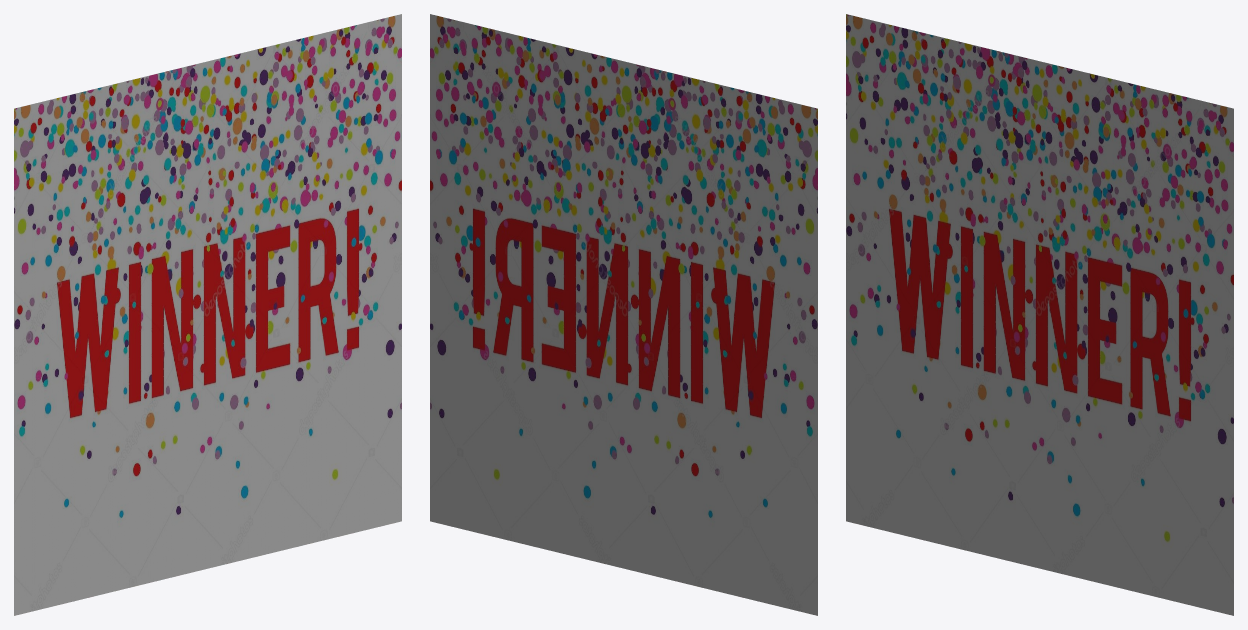
The model's file is winner.glb.
3 views of the same model, side by side, from view 1: azimuth 30°, elevation 25°; view 2: azimuth 150°, elevation 25°; view 3: azimuth 330°, elevation 25° (orthographic).
Visible parts, largest first — view 1: node-0; view 2: node-0; view 3: node-0.
Boxes of the visible parts, box(x1,y1,x2,y2) form: node-0: box(14, 14, 401, 615); node-0: box(430, 14, 817, 615); node-0: box(846, 14, 1233, 615).
Size of the model in its own units: 381 by 476 by 0.
Materials: 1 (1 with a texture image).
